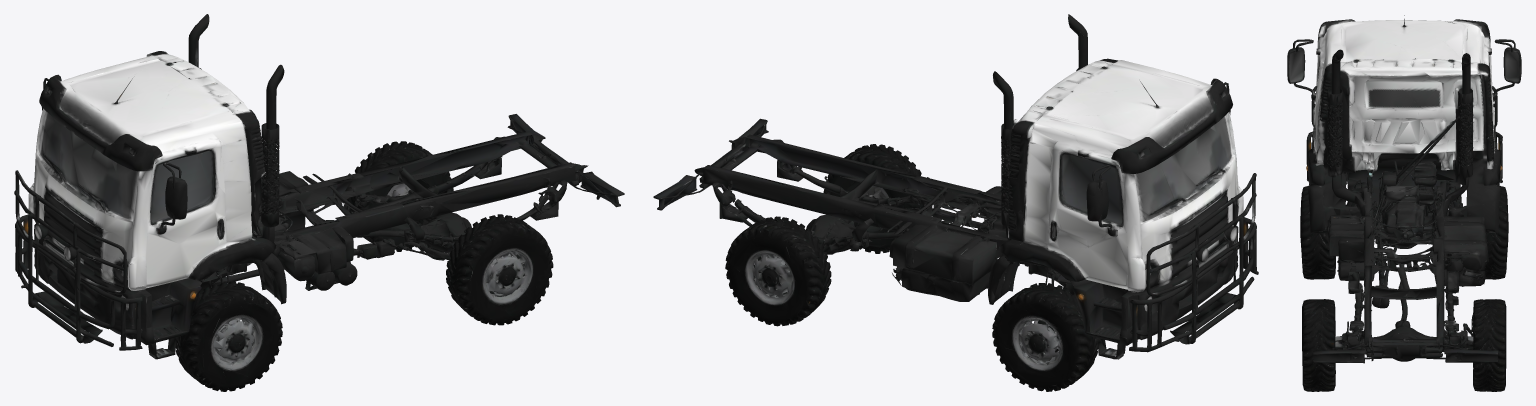
Rendered from caminhao-desktop-C7GkcS7l.glb.
The picture shows the model from 3 angles, left to right: view 1: azimuth 30°, elevation 25°; view 2: azimuth 150°, elevation 25°; view 3: azimuth 270°, elevation 25°; orthographic projection. The views are drawn at different scales.
Parts seen in each view (by area): view 1: output_unwrapped; view 2: output_unwrapped; view 3: output_unwrapped.
Part boxes in pixels (x1,y1,x2,y2): output_unwrapped: [14, 14, 624, 391]; output_unwrapped: [653, 14, 1258, 391]; output_unwrapped: [1287, 15, 1521, 391].
Bounding box in the file's own units: 8.2 × 4.47 × 3.76.
Materials: 1 (1 with a texture image).
